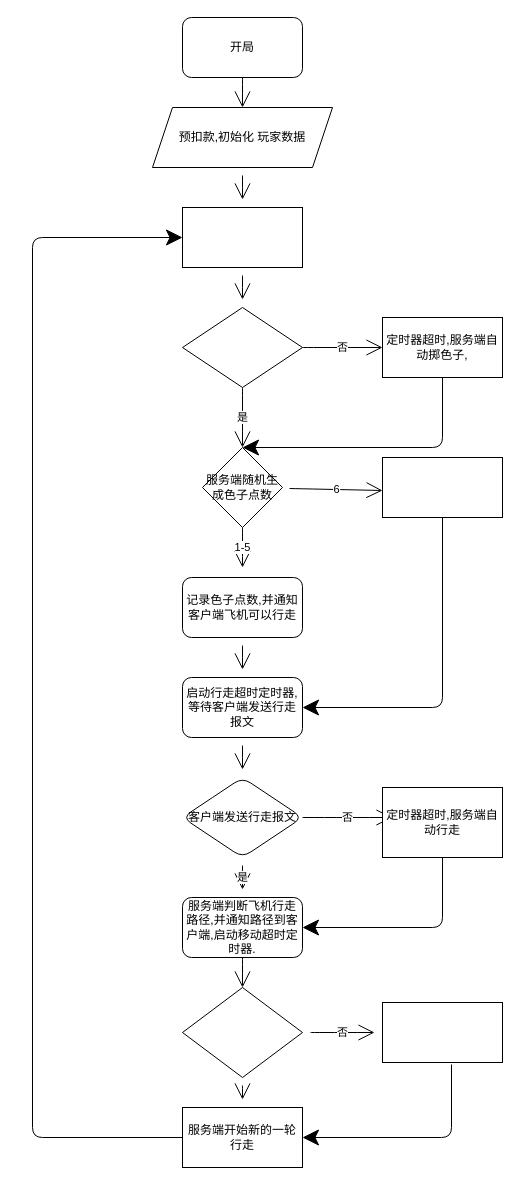
Some shapes in this 520 by 1185 pixel diagram are drawn without their labels. Here are the shapes that lost their labels. From the top down, the centre of each, then its label:
At point 242,237: "下发等待玩家掷色子报文,并启动等待超时定时器.".
At point 242,347: "客户端发送玩家掷色子报文".
At point 442,487: "记录色子点数,并通知客户端可以行走,或出动飞机.".
At point 242,1032: "客户端发送移动结束报文".
At point 442,1032: "定时器超时,服务器自动开始下一轮".
